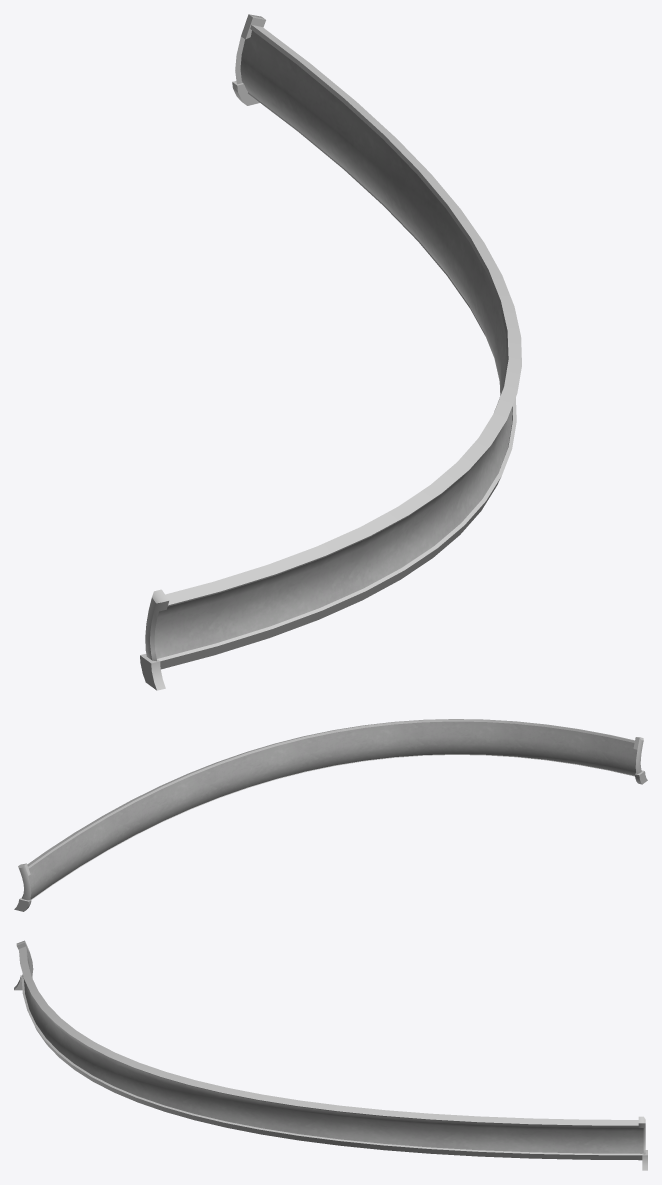
Rendered from Railing01_CurveLargeOut.FBX.
The picture shows the model from 3 angles, top to bottom: view 1: azimuth 30°, elevation 25°; view 2: azimuth 150°, elevation 25°; view 3: azimuth 270°, elevation 25°; orthographic projection. The views are drawn at different scales.
Visible parts, largest first — view 1: Railing01_CurveLargeOut; view 2: Railing01_CurveLargeOut; view 3: Railing01_CurveLargeOut.
Part boxes in pixels (x1,y1,x2,y2): Railing01_CurveLargeOut: [140, 14, 521, 690]; Railing01_CurveLargeOut: [14, 719, 647, 911]; Railing01_CurveLargeOut: [14, 940, 647, 1170].
Bounding box in the file's own units: 8.55 × 1.08 × 12.55.
